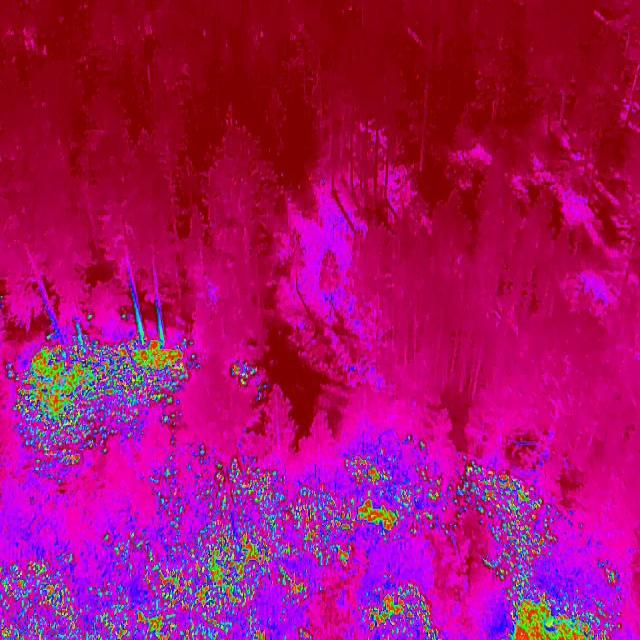fire: (148, 435, 466, 640), (0, 318, 200, 480), (467, 457, 564, 640), (0, 526, 147, 640), (564, 540, 624, 640), (232, 359, 276, 409)
